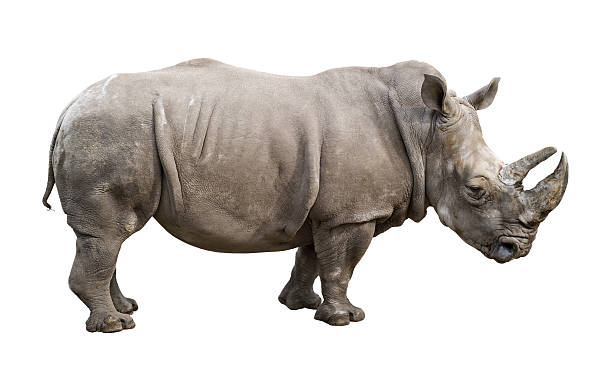rhino: (414, 59, 580, 290)
